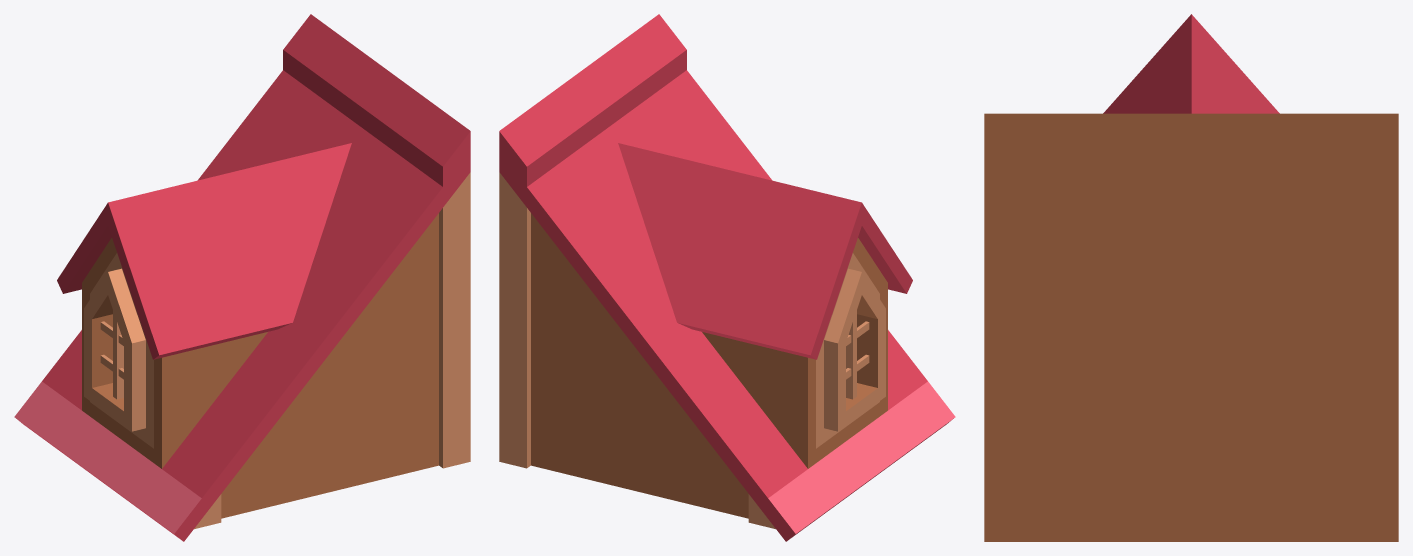
Rendered from roofHighWindow.fbx.
3 views of the same model, side by side, from view 1: azimuth 30°, elevation 25°; view 2: azimuth 150°, elevation 25°; view 3: azimuth 270°, elevation 25° (orthographic). The views are drawn at different scales.
Visible parts, largest first — view 1: roofHighWindow; view 2: roofHighWindow; view 3: roofHighWindow.
Part boxes in pixels (bbox=[...]): roofHighWindow: bbox=[14, 14, 470, 541]; roofHighWindow: bbox=[499, 14, 955, 541]; roofHighWindow: bbox=[984, 14, 1398, 541].
Bounding box in the file's own units: 10.71 × 11.76 × 10.
